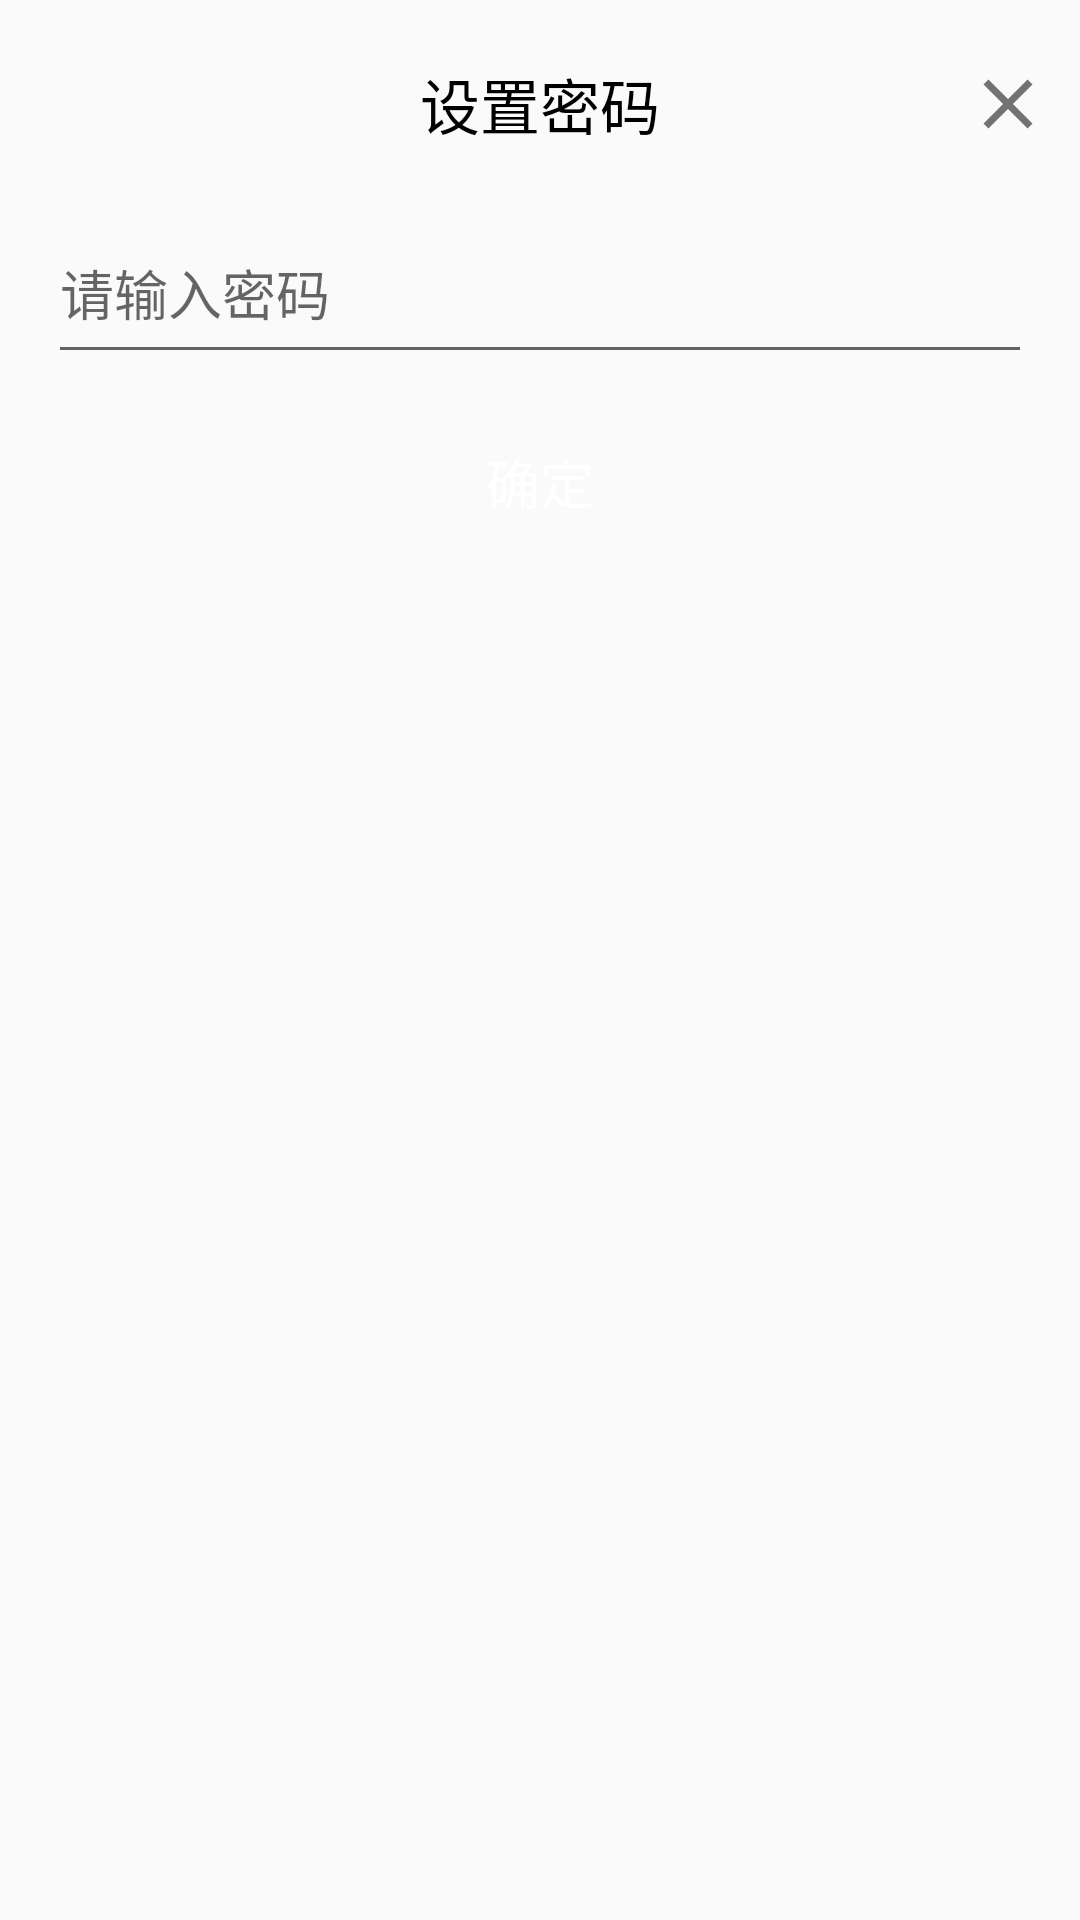

Named icons in this screenshot (1080 x 1920) and their centers, point (x, y):
close: point (1008, 104)
